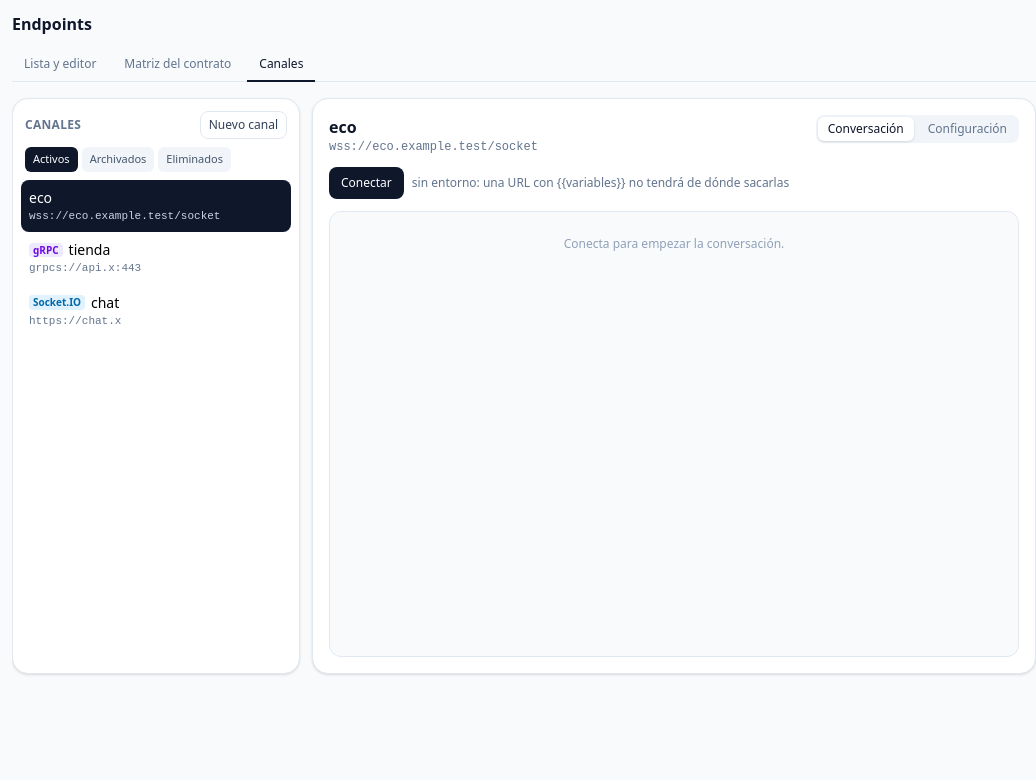
la lista › marca el abierto, lleva el protocolo en la fila, y elegir otro lo abre
Check: the heading "eco" is shown, box 329,116 -> 357,138
Click the button "gRPC tienda grpcs://api.x:443" at (46, 250), box 21,232 -> 291,284
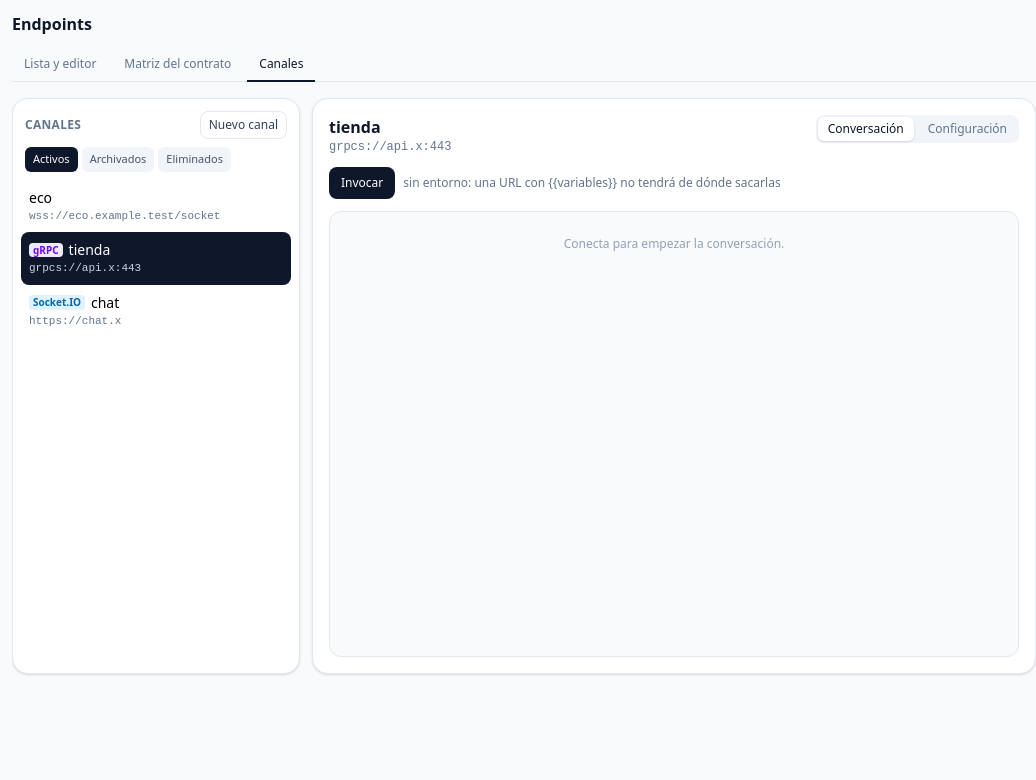
Check: the heading "tienda" is shown, box 329,116 -> 381,138
